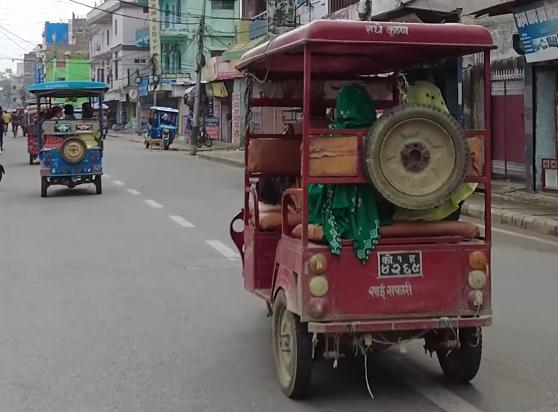e-rickshaw: (219, 15, 501, 409), (29, 74, 108, 205), (141, 104, 179, 156)
